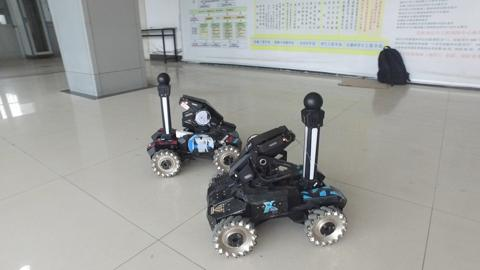chariot: (197, 92, 350, 263), (130, 69, 250, 180)
